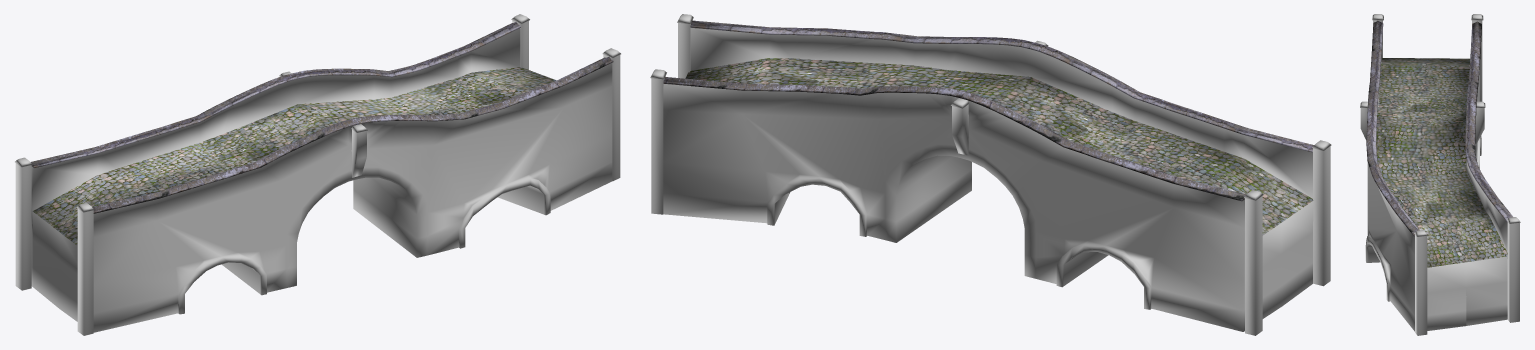
The model's file is Bridge.dae.
3 renders of one model, left to right at view 1: azimuth 30°, elevation 25°; view 2: azimuth 150°, elevation 25°; view 3: azimuth 270°, elevation 25°, orthographic. The views are drawn at different scales.
Parts seen in each view (by area): view 1: meshU3D; view 2: meshU3D; view 3: meshU3D.
Part boxes in pixels (bbox=[...]): meshU3D: bbox=[15, 14, 620, 335]; meshU3D: bbox=[650, 14, 1331, 335]; meshU3D: bbox=[1360, 14, 1520, 335].
Size of the model in its own units: 886 by 228 by 272.
